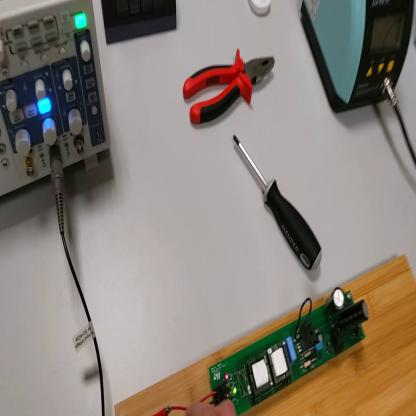hand: (183, 398, 236, 415)
high voltage board: (173, 289, 371, 415)
oscilloscope: (2, 2, 112, 205)
pliers: (174, 50, 278, 126)
screwdriver-: (231, 137, 326, 273)
welder station: (301, 3, 416, 116)
working area: (115, 254, 416, 415)
